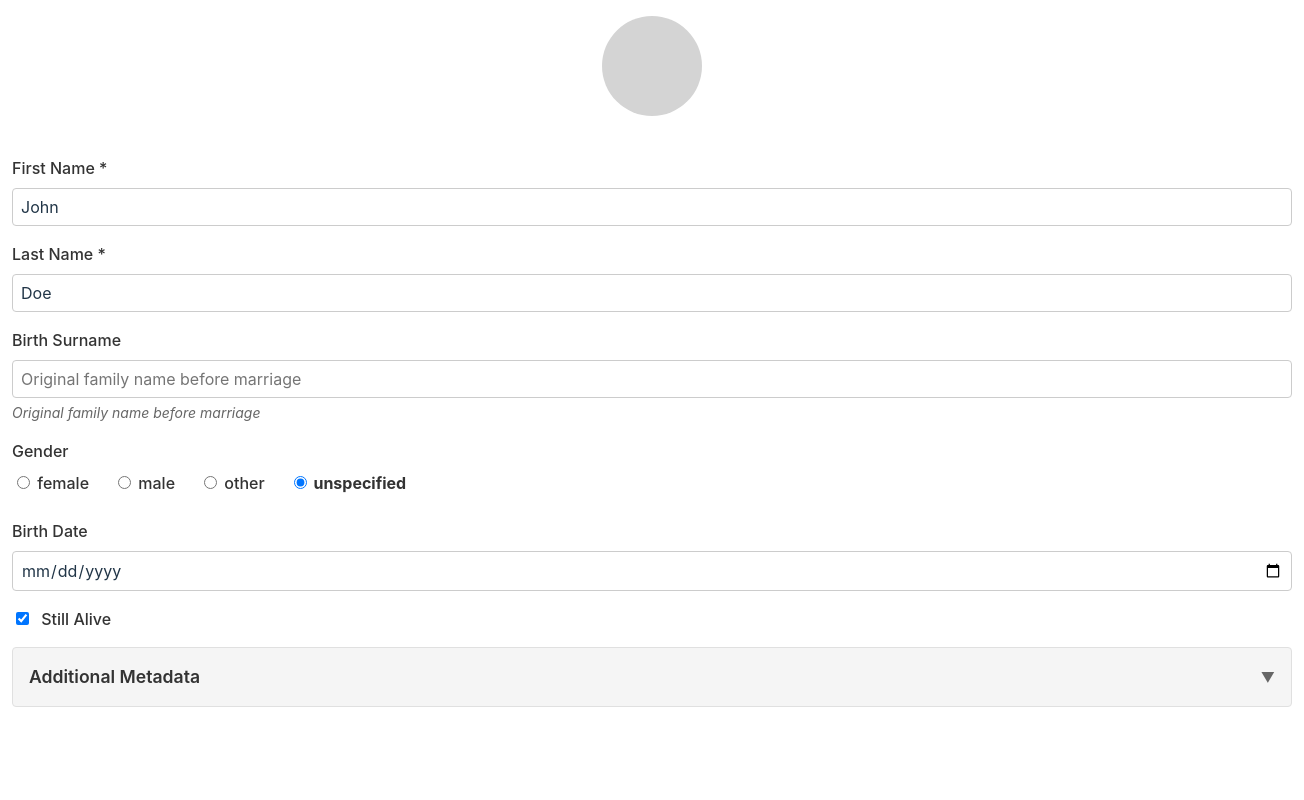
Test: PersonFormFields - Photo Preview Integration › Photo URL field › should populate photoUrl input with existing value
Click the button with class "section-header". click: coordinates (115, 676)
box: [12, 647, 1292, 707]
(page scrolled)
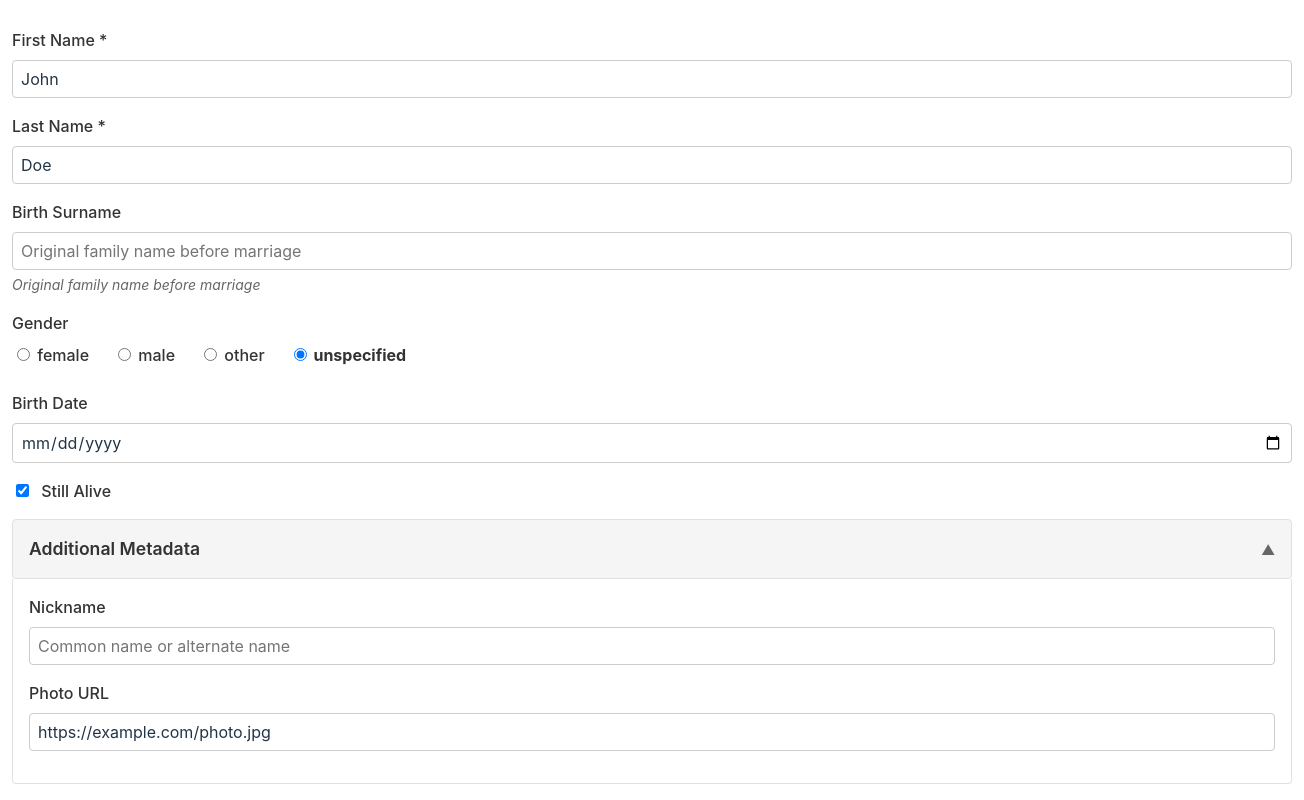
Expected: the field labelled "Photo URL" holds "https://example.com/photo.jpg", [29, 713, 1275, 751]
